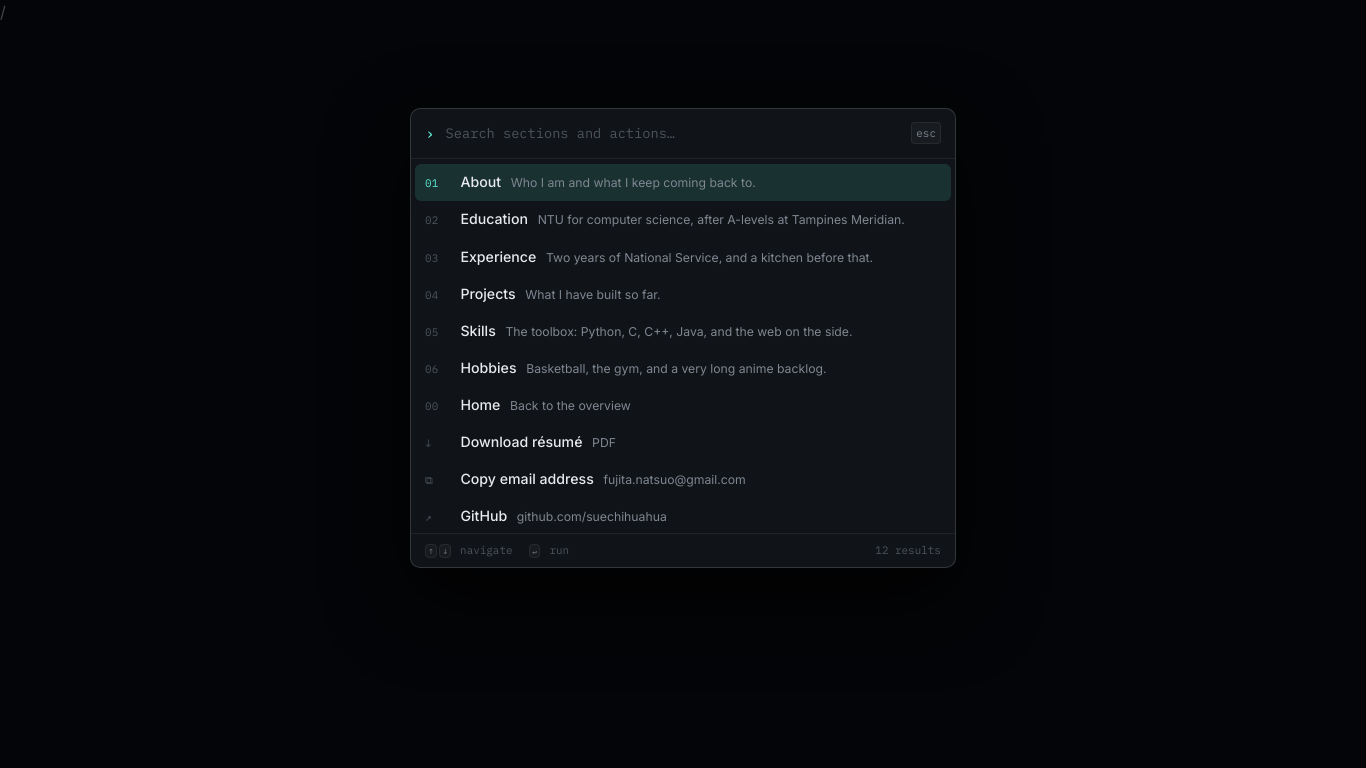
Test case: CommandPalette › reports when nothing matches
This screenshot has width=1366, height=768.
Type "zzzqqq" into the field labelled "Search sections and actions…" at (673, 133), box [444, 123, 902, 143]
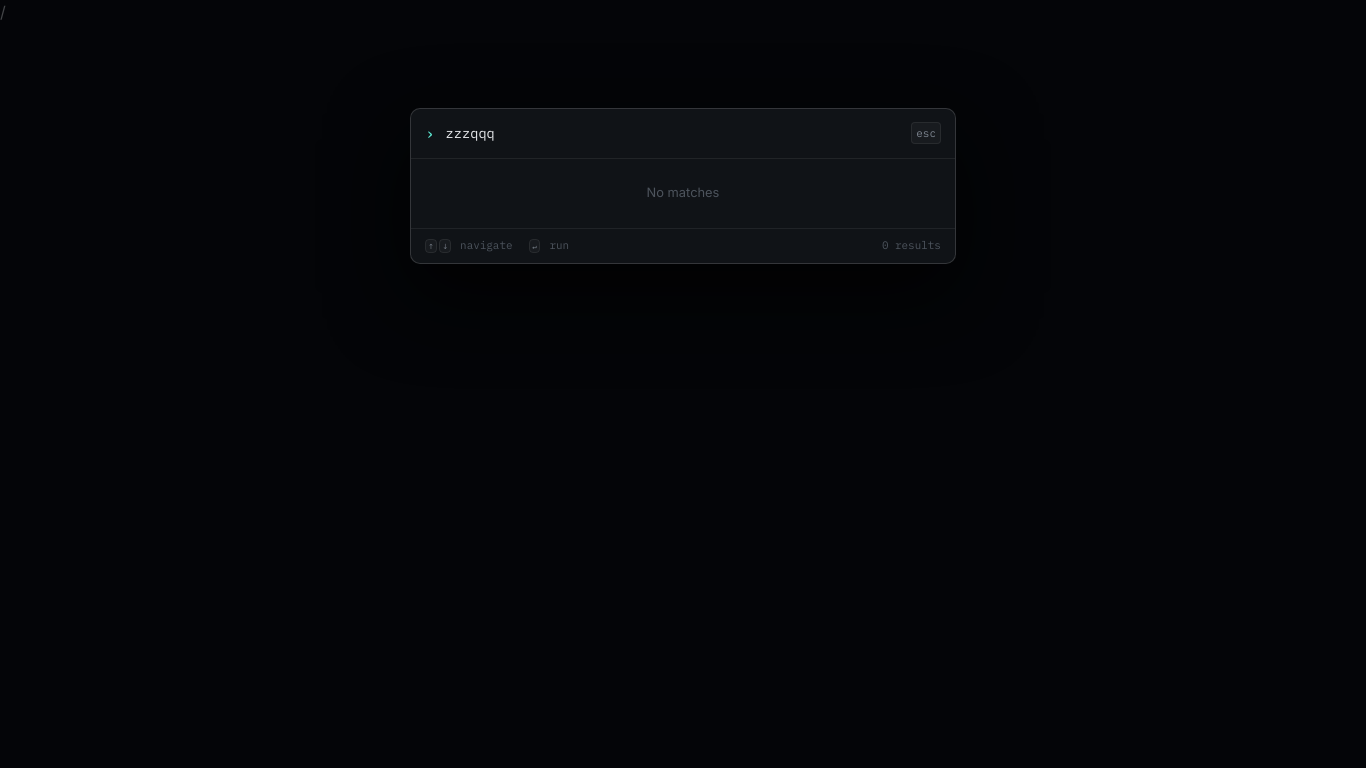
Expected: the list item "No matches" is shown, [647, 185, 719, 200]
Expected: no options are shown
